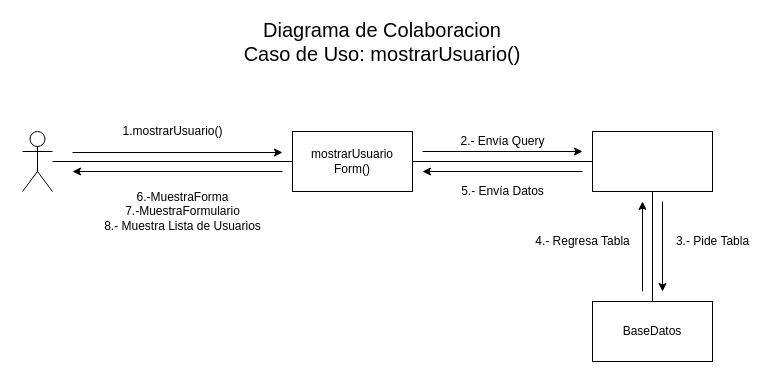
This 766x379 diagram has some shape labels left out. Here are the shapes that lost their labels. From the top down, the box of each, then its label:
(22, 130, 52, 192): Usuario
(592, 130, 712, 192): ClaseUsuario
